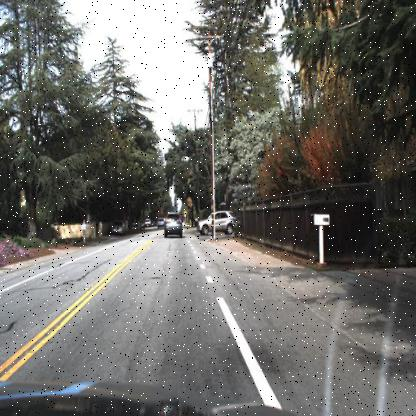car: (196, 209, 237, 234), (106, 212, 130, 240), (164, 209, 185, 239), (110, 218, 125, 235)
